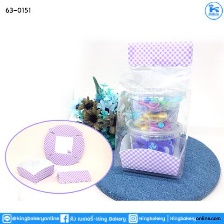snack: (106, 28, 198, 185)
